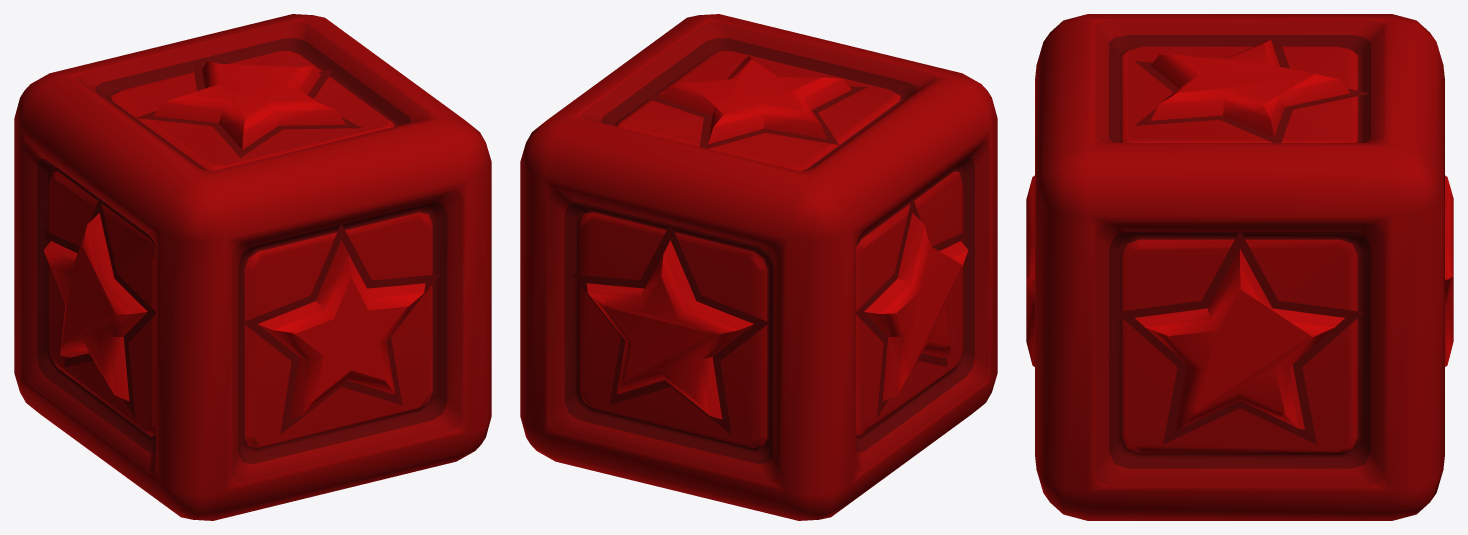
The model's file is yildiz.glb.
3 views of the same model, side by side, from view 1: azimuth 30°, elevation 25°; view 2: azimuth 150°, elevation 25°; view 3: azimuth 270°, elevation 25° (orthographic). The views are drawn at different scales.
Parts seen in each view (by area): view 1: yildiz; view 2: yildiz; view 3: yildiz.
Part boxes in pixels (x1,y1,x2,y2): yildiz: (14,14,491,520); yildiz: (520,14,997,520); yildiz: (1026,14,1453,520).
Size of the model in its own units: 1.62 by 1.58 by 1.62.
